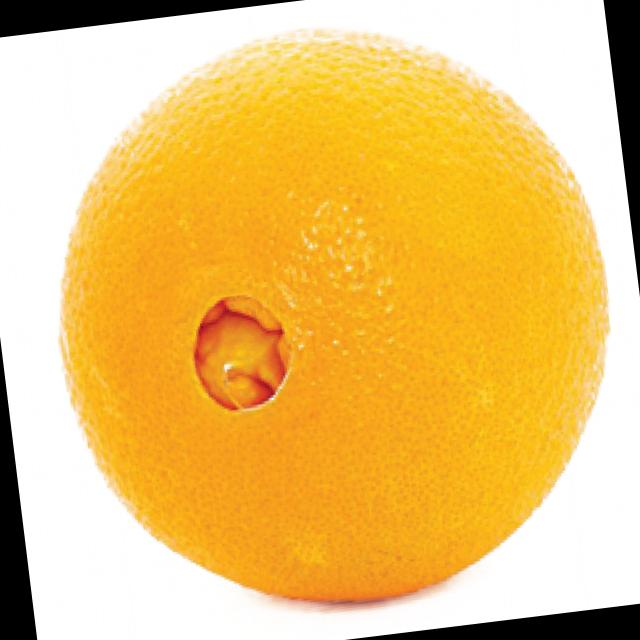orange: (28, 5, 638, 636)
